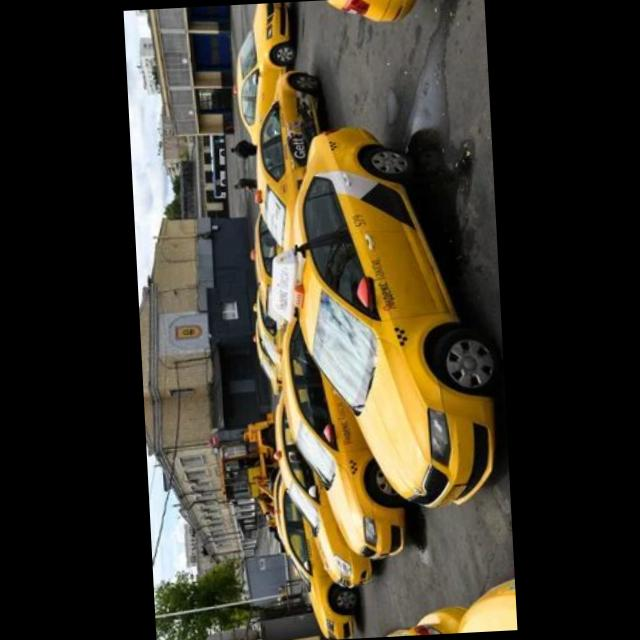taxi: (263, 120, 507, 517), (277, 305, 412, 566), (270, 388, 377, 594), (269, 464, 360, 640), (247, 70, 330, 253), (229, 3, 300, 149), (318, 1, 432, 27)
